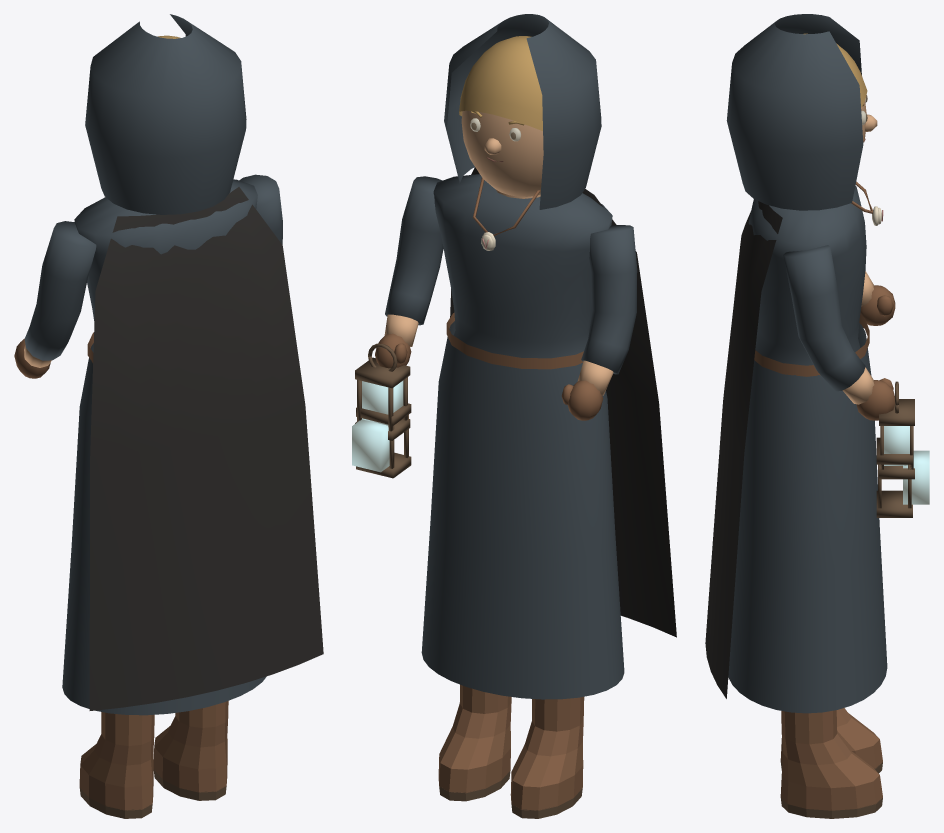
Rendered from SM_NPC_ESTRELLA_FUGAZ.glb.
The picture shows the model from 3 angles, left to right: view 1: azimuth 30°, elevation 25°; view 2: azimuth 150°, elevation 25°; view 3: azimuth 270°, elevation 25°; orthographic projection. The views are drawn at different scales.
Parts seen in each view (by area): view 1: SM_NPC_ESTRELLA_FUGAZ_BODY, SM_NPC_ESTRELLA_FUGAZ_HAIR, SM_NPC_ESTRELLA_FUGAZ_ARM_L, SM_NPC_ESTRELLA_FUGAZ_LEG_L, SM_NPC_ESTRELLA_FUGAZ_LEG_R, SM_NPC_ESTRELLA_FUGAZ_ARM_R; view 2: SM_NPC_ESTRELLA_FUGAZ_BODY, SM_NPC_ESTRELLA_FUGAZ_HAIR, SM_NPC_ESTRELLA_FUGAZ_ARM_R, SM_NPC_ESTRELLA_FUGAZ_ARM_L, SM_NPC_ESTRELLA_FUGAZ_LEG_L, SM_NPC_ESTRELLA_FUGAZ_LEG_R, SM_NPC_ESTRELLA_FUGAZ_HEAD; view 3: SM_NPC_ESTRELLA_FUGAZ_BODY, SM_NPC_ESTRELLA_FUGAZ_HAIR, SM_NPC_ESTRELLA_FUGAZ_ARM_R, SM_NPC_ESTRELLA_FUGAZ_LEG_R, SM_NPC_ESTRELLA_FUGAZ_LEG_L, SM_NPC_ESTRELLA_FUGAZ_ARM_L.
Boxes of the visible parts, x1,y1,x2,y2 form: SM_NPC_ESTRELLA_FUGAZ_BODY: [62, 179, 323, 715]; SM_NPC_ESTRELLA_FUGAZ_HAIR: [85, 14, 246, 214]; SM_NPC_ESTRELLA_FUGAZ_ARM_L: [14, 221, 96, 378]; SM_NPC_ESTRELLA_FUGAZ_LEG_L: [79, 712, 154, 818]; SM_NPC_ESTRELLA_FUGAZ_LEG_R: [153, 701, 228, 800]; SM_NPC_ESTRELLA_FUGAZ_ARM_R: [239, 174, 282, 244]; SM_NPC_ESTRELLA_FUGAZ_BODY: [421, 167, 676, 699]; SM_NPC_ESTRELLA_FUGAZ_HAIR: [444, 14, 601, 209]; SM_NPC_ESTRELLA_FUGAZ_ARM_R: [352, 176, 443, 478]; SM_NPC_ESTRELLA_FUGAZ_ARM_L: [561, 225, 637, 420]; SM_NPC_ESTRELLA_FUGAZ_LEG_L: [510, 696, 584, 818]; SM_NPC_ESTRELLA_FUGAZ_LEG_R: [438, 684, 511, 801]; SM_NPC_ESTRELLA_FUGAZ_HEAD: [461, 110, 543, 196]; SM_NPC_ESTRELLA_FUGAZ_BODY: [705, 181, 887, 713]; SM_NPC_ESTRELLA_FUGAZ_HAIR: [726, 14, 867, 210]; SM_NPC_ESTRELLA_FUGAZ_ARM_R: [783, 245, 929, 517]; SM_NPC_ESTRELLA_FUGAZ_LEG_R: [780, 710, 882, 818]; SM_NPC_ESTRELLA_FUGAZ_LEG_L: [780, 708, 882, 773]; SM_NPC_ESTRELLA_FUGAZ_ARM_L: [860, 271, 895, 325].
Bounding box in the file's own units: 0.6008 × 1.85 × 0.4909.
